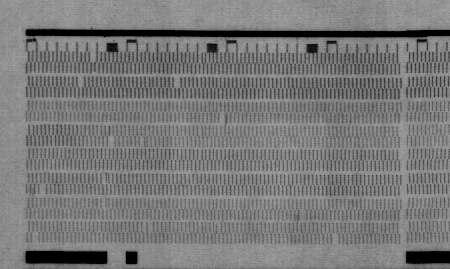Broken hole: (139, 221, 155, 232), (75, 76, 88, 89), (87, 52, 100, 64), (296, 209, 309, 221), (30, 232, 41, 246), (172, 76, 182, 89), (218, 111, 228, 124), (38, 182, 47, 196), (106, 137, 117, 148), (331, 233, 340, 245)
Oblique printing: (98, 172, 112, 186), (139, 136, 148, 148)
